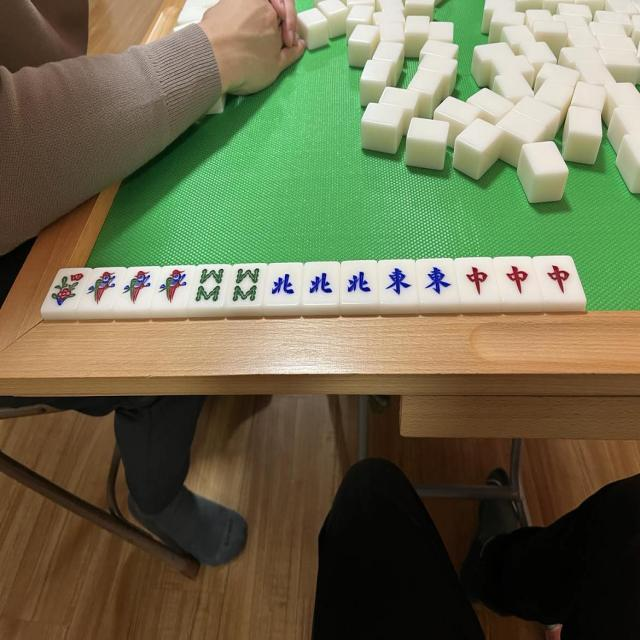bs4: (50, 269, 84, 311)
hdr: (459, 260, 492, 302), (502, 259, 535, 301), (542, 258, 574, 299)
hwe: (380, 263, 414, 305), (420, 262, 453, 304)
hwn: (342, 264, 374, 305), (306, 265, 336, 306), (269, 266, 299, 306)
sb1: (120, 268, 153, 310), (86, 268, 117, 311), (159, 268, 190, 308)
sb8: (194, 267, 227, 307), (232, 266, 263, 306)
